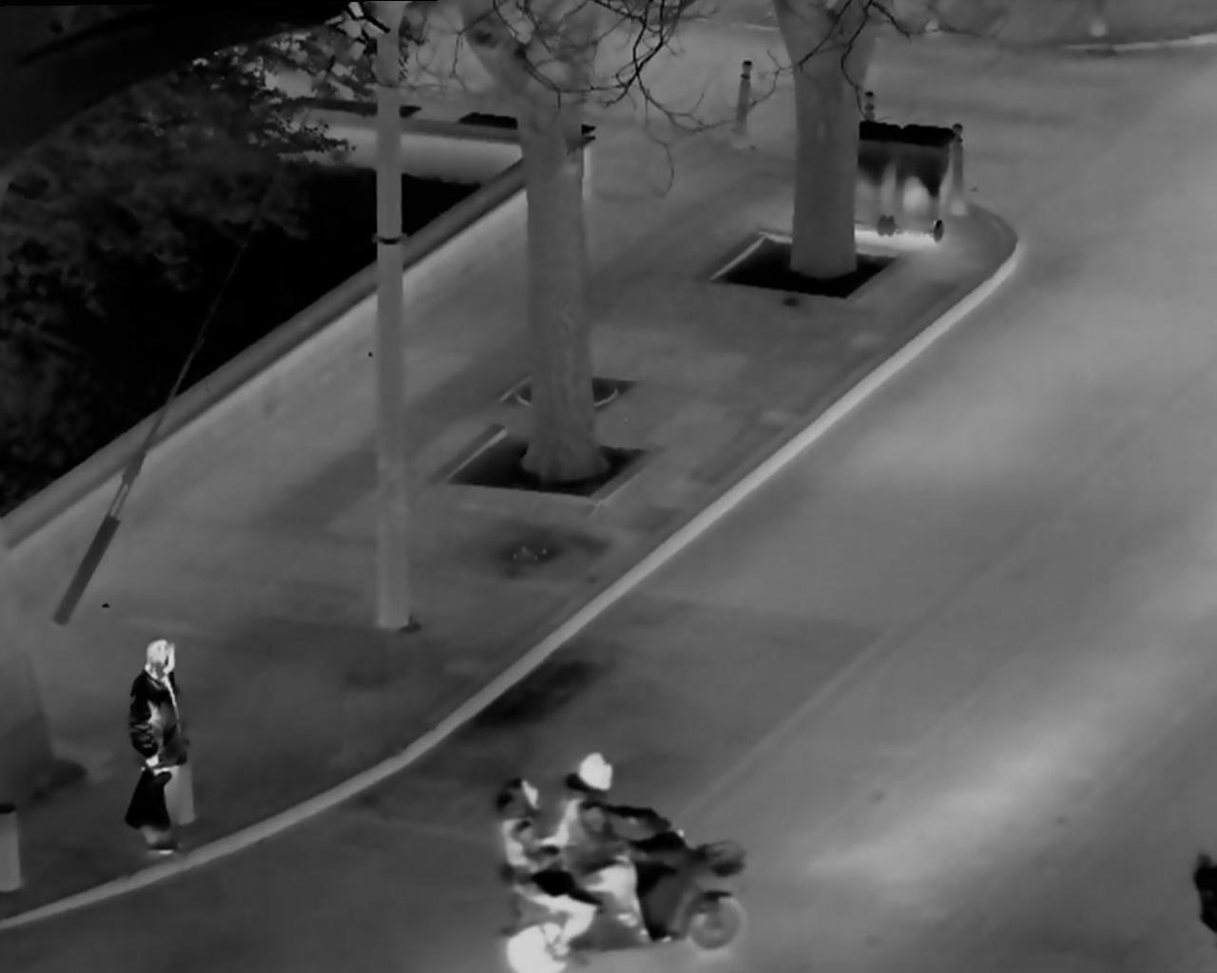person: (551, 747, 670, 955), (113, 629, 208, 873), (479, 768, 571, 973)
